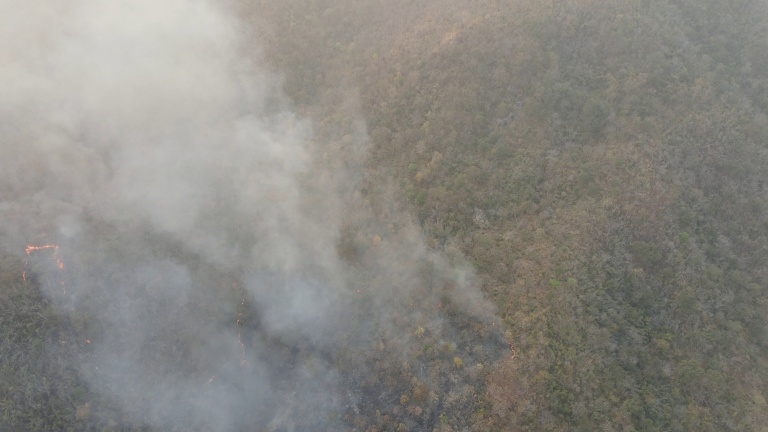fire: (208, 278, 260, 389), (467, 317, 514, 396), (21, 244, 67, 298)
smoke: (1, 1, 522, 428)
